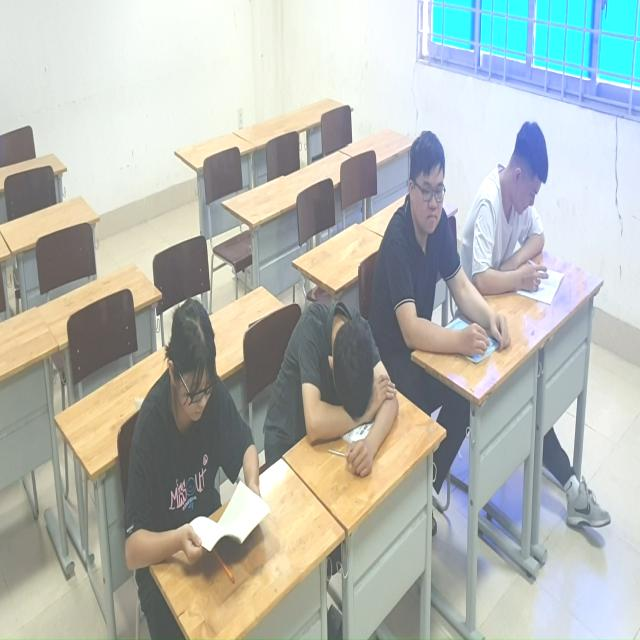read: (126, 284, 277, 593), (382, 122, 514, 369), (472, 117, 568, 310)
sleep: (276, 266, 403, 489)
